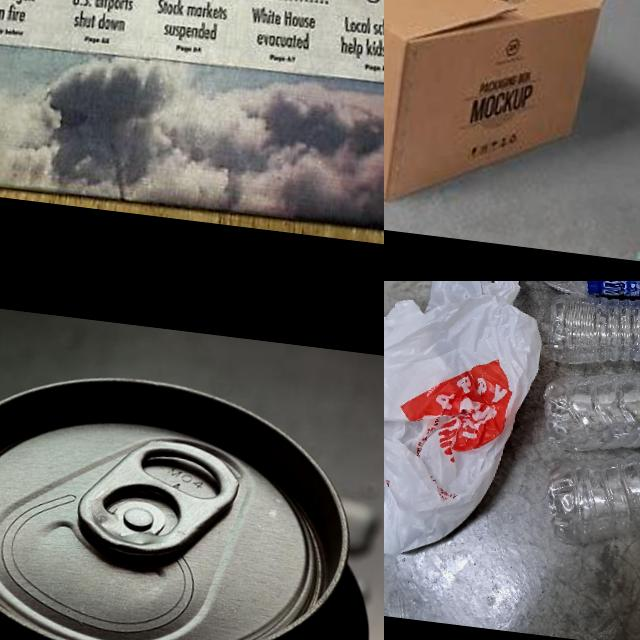aba de lata: (72, 428, 244, 580)
garrafa plástica: (534, 418, 640, 571), (533, 345, 640, 468), (533, 281, 640, 379)
lata: (0, 345, 384, 640)
papel: (0, 0, 384, 249)
papelão: (384, 0, 640, 229)
sacola plástica: (384, 281, 551, 567)
